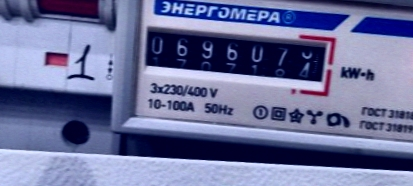0: (249, 39, 266, 62), (149, 31, 165, 54)
4: (297, 57, 312, 79)
6: (174, 33, 190, 55), (224, 38, 240, 60)
7: (273, 43, 290, 66)
9: (199, 36, 214, 58)
screen: (130, 13, 341, 93)
